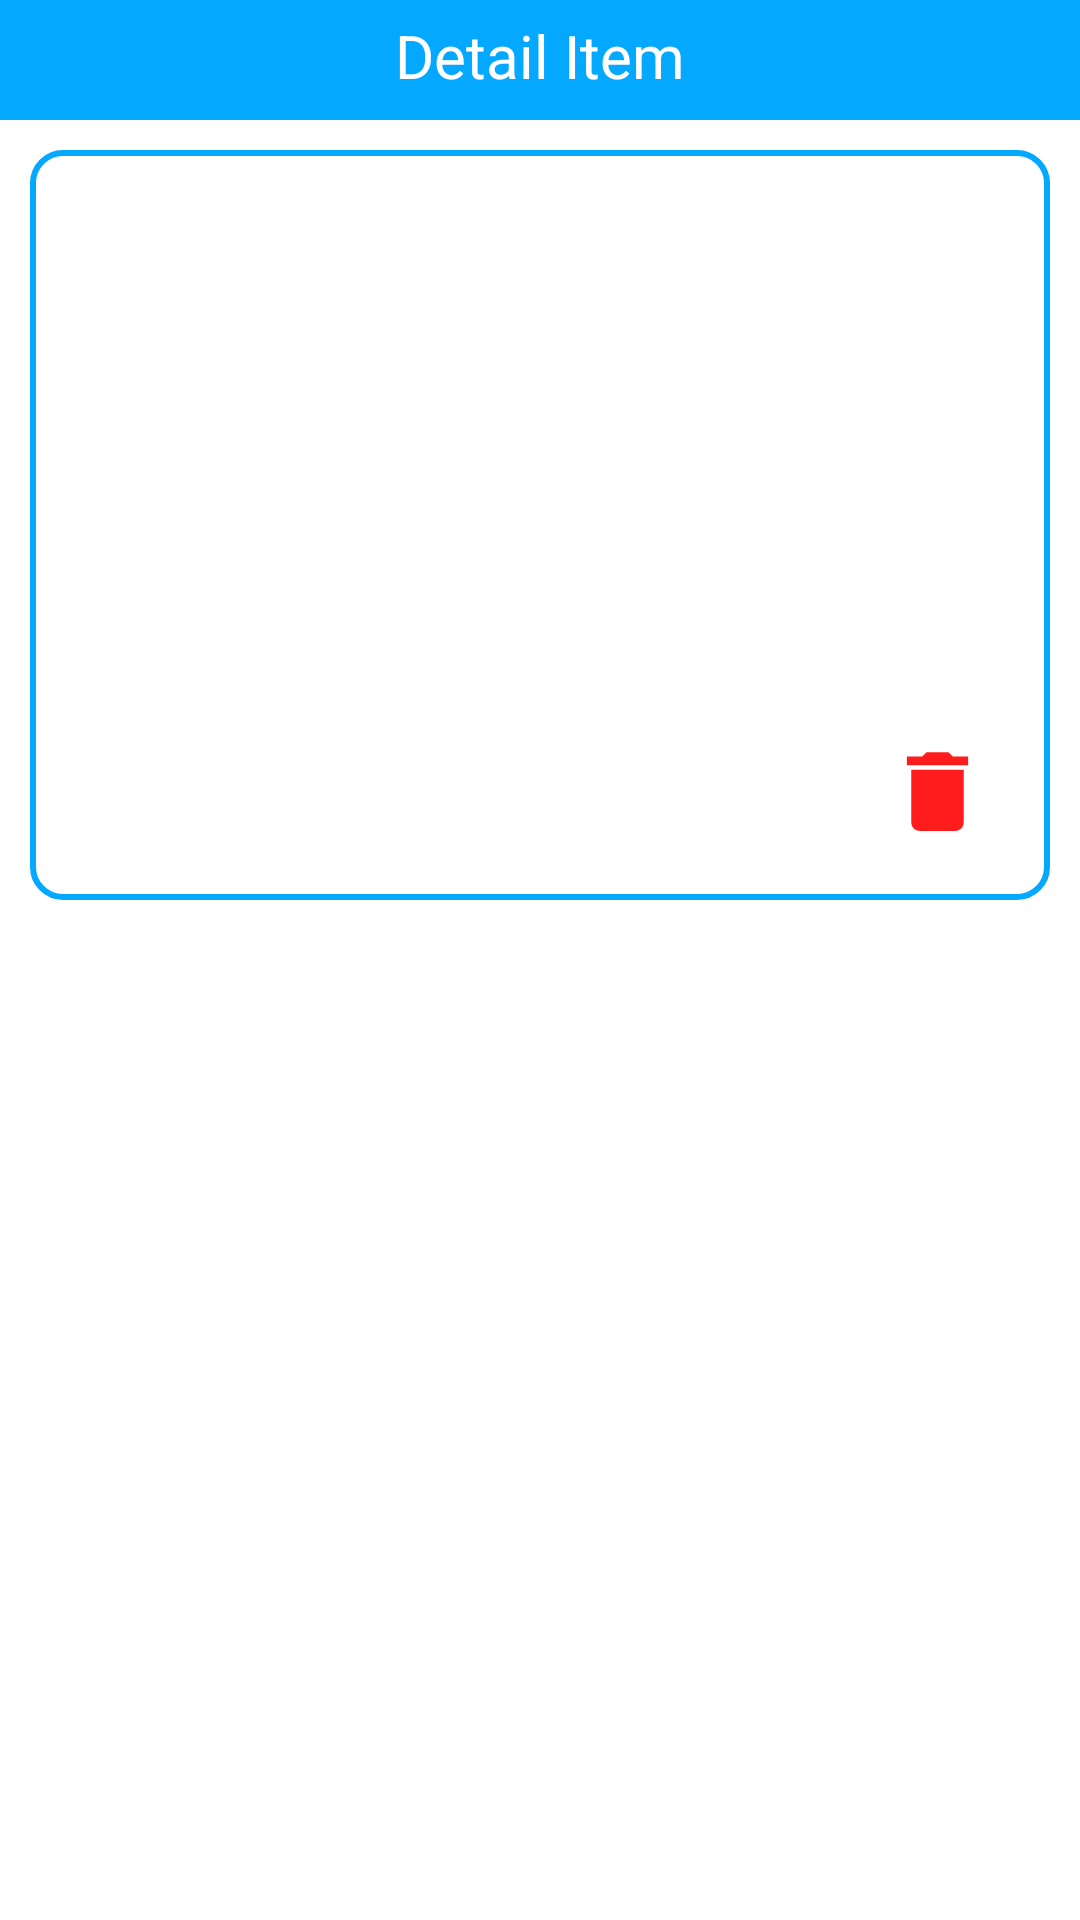

Named icons in this screenshot (1080*1920) and their bounding boxes, box(x1, y1, x2, y2):
delete: box(906, 752, 969, 831)
